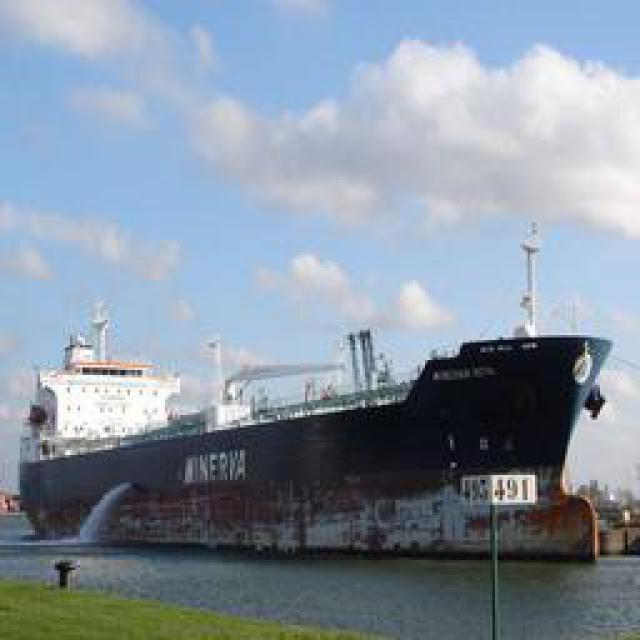Ship: (39, 330, 622, 553)
